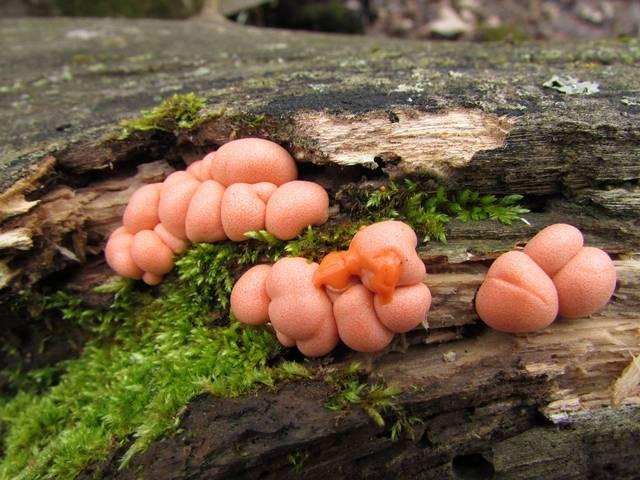Non-edible Mushroom: (103, 135, 617, 356), (103, 136, 329, 285), (229, 218, 432, 357), (474, 221, 617, 333), (264, 255, 338, 357), (474, 249, 559, 333), (551, 245, 617, 319), (209, 136, 297, 185), (264, 179, 329, 240), (522, 221, 583, 276)
